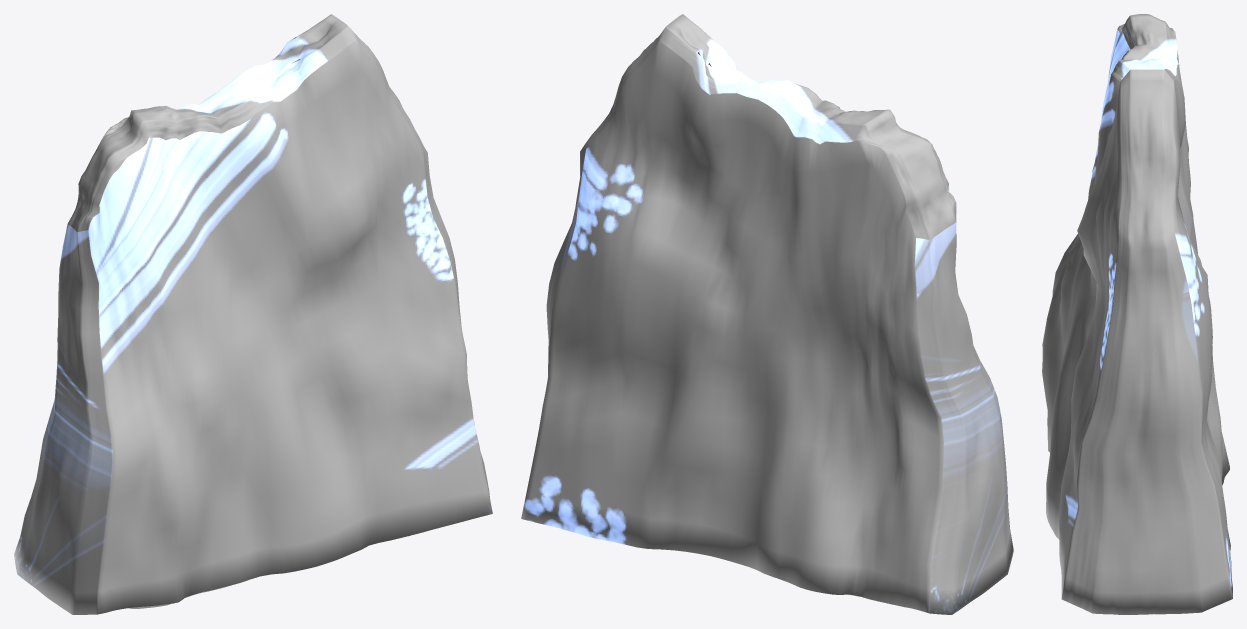
The model's file is SM_Rock_02.fbx.
3 renders of one model, left to right at view 1: azimuth 30°, elevation 25°; view 2: azimuth 150°, elevation 25°; view 3: azimuth 270°, elevation 25°, orthographic. The views are drawn at different scales.
Visible parts, largest first — view 1: SM_Rock_02; view 2: SM_Rock_02; view 3: SM_Rock_02.
Boxes of the visible parts, x1,y1,x2,y2 form: SM_Rock_02: (14, 14, 492, 614); SM_Rock_02: (521, 14, 1013, 614); SM_Rock_02: (1042, 14, 1232, 614).
Bounding box in the file's own units: 253 × 101 × 293.
